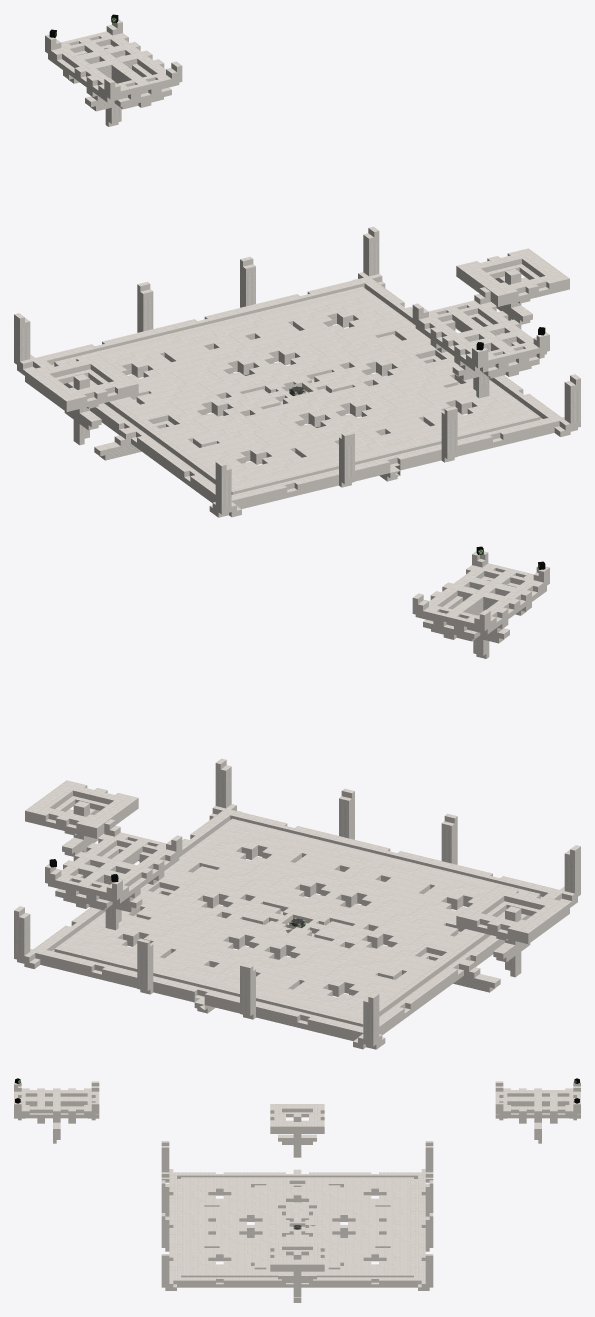
File: minecraft.obj
The picture shows the model from 3 angles, top to bottom: view 1: azimuth 30°, elevation 25°; view 2: azimuth 150°, elevation 25°; view 3: azimuth 270°, elevation 25°; orthographic projection. The views are drawn at different scales.
Bounding box in the file's own units: 49 × 21.52 × 73.
